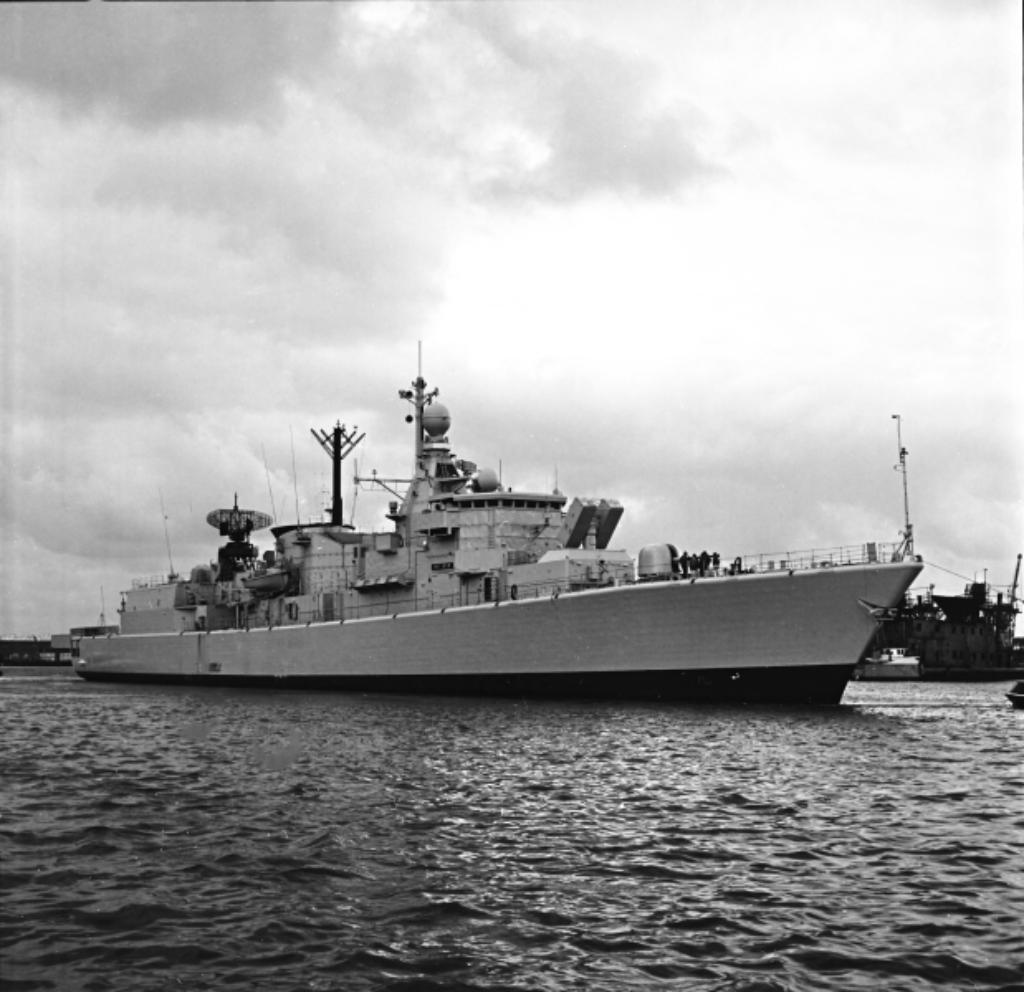Warship: (63, 331, 929, 721)
